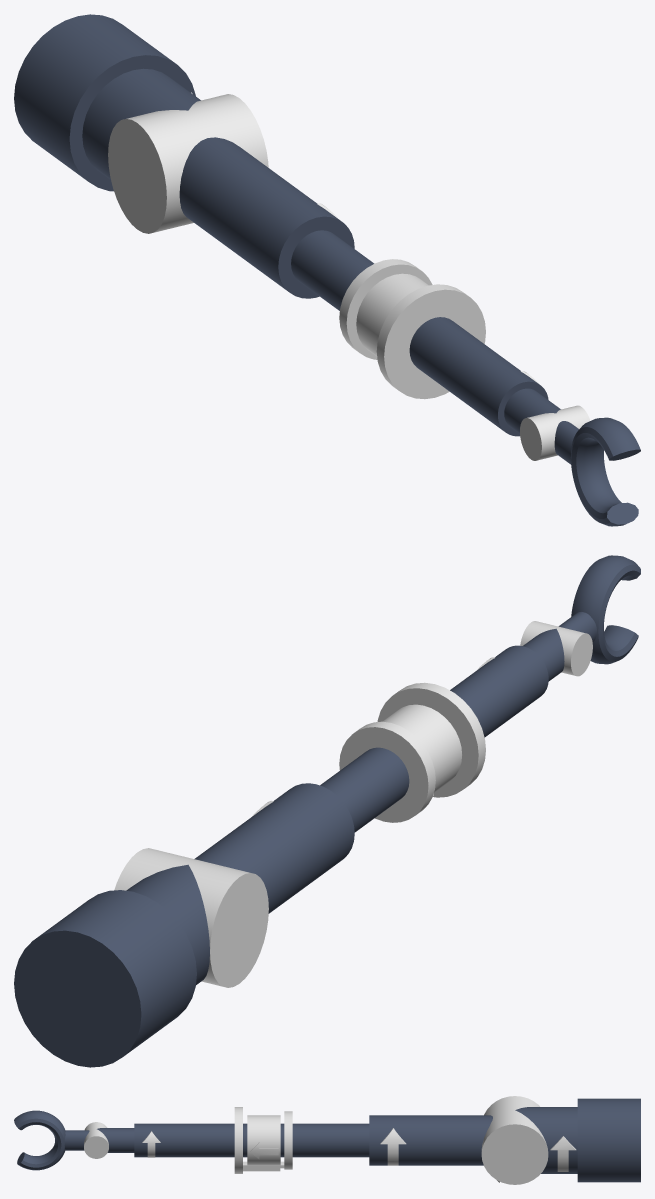
3 views of the same model, one above another, from view 1: azimuth 30°, elevation 25°; view 2: azimuth 150°, elevation 25°; view 3: azimuth 270°, elevation 25° (orthographic). The views are drawn at different scales.
Parts seen in each view (by area): view 1: Link3, Base, Link2, Link4, Link5, Link7, Link1, Link6; view 2: Base, Link3, Link2, Link4, Link5, Link7, Link1, Link6; view 3: Link3, Base, Link2, Link5, Link4, Link1, Link7, Link6, arrow3, arrow1, arrow5, arrow4.
Boxes of the visible parts, left/top/right/bottom form: Link3: left=179, top=137, right=432, bottom=359; Base: left=14, top=14, right=195, bottom=191; Link2: left=108, top=94, right=268, bottom=233; Link4: left=356, top=273, right=485, bottom=399; Link5: left=409, top=317, right=560, bottom=436; Link7: left=554, top=417, right=640, bottom=526; Link1: left=82, top=68, right=200, bottom=179; Link6: left=520, top=405, right=590, bottom=460; Base: left=14, top=890, right=196, bottom=1067; Link3: left=194, top=721, right=435, bottom=913; Link2: left=114, top=848, right=268, bottom=987; Link4: left=377, top=682, right=485, bottom=797; Link5: left=450, top=628, right=564, bottom=737; Link7: left=558, top=555, right=640, bottom=664; Link1: left=126, top=864, right=209, bottom=984; Link6: left=520, top=621, right=592, bottom=676; Link3: left=243, top=1111, right=492, bottom=1169; Base: left=577, top=1098, right=640, bottom=1182; Link2: left=481, top=1096, right=548, bottom=1184; Link5: left=97, top=1123, right=247, bottom=1157; Link4: left=234, top=1107, right=280, bottom=1173; Link1: left=515, top=1107, right=577, bottom=1173; Link7: left=14, top=1110, right=89, bottom=1170; Link6: left=84, top=1122, right=108, bottom=1158; arrow3: left=380, top=1128, right=406, bottom=1165; arrow1: left=550, top=1136, right=576, bottom=1171; arrow5: left=142, top=1131, right=160, bottom=1157; arrow4: left=250, top=1142, right=278, bottom=1159.
Bounding box in the file's own units: 0.1 × 0.1 × 0.7491.
